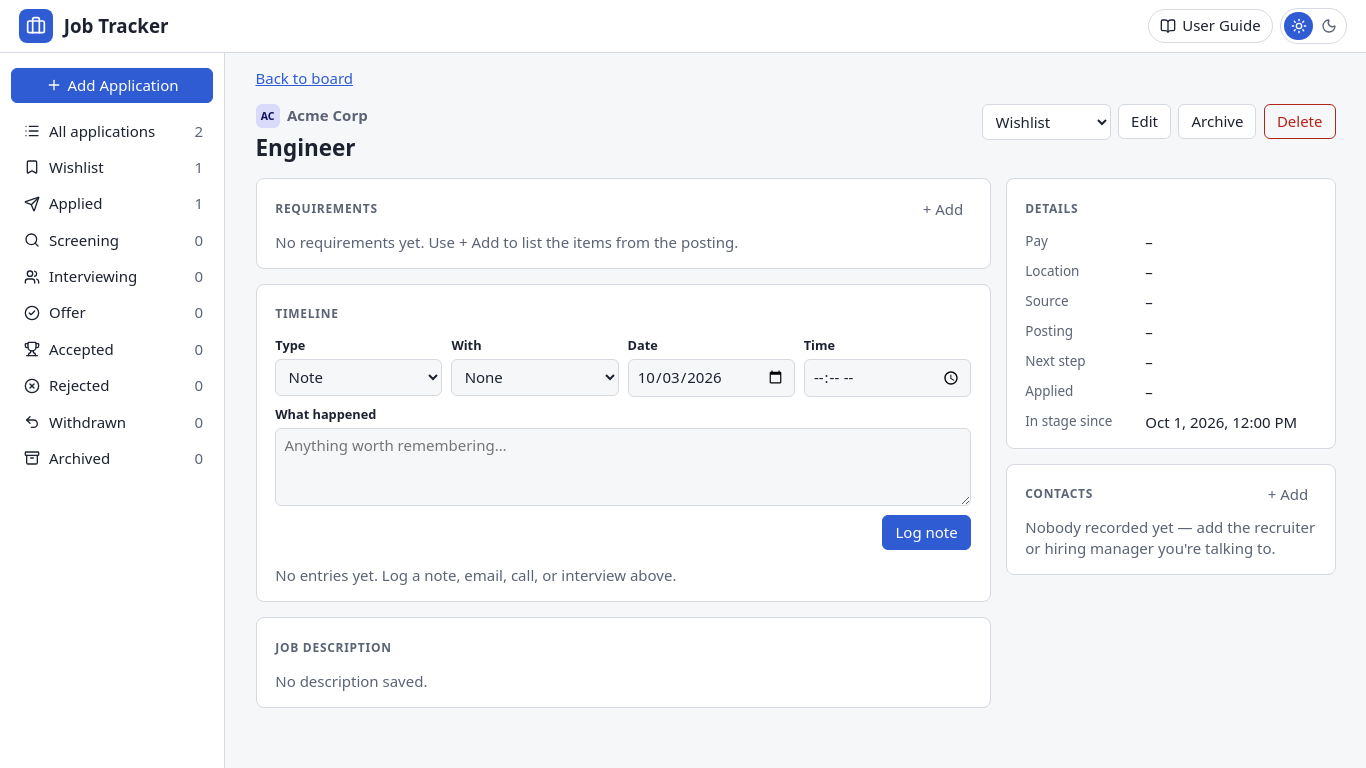
Test case: the sidebar's counts stay live (spec 014, AC-3) › follow the stage menu on an application's page, and go back if the change can't be saved
The image size is (1366, 768).
Select "Applied" in the dropdown named "Stage" at (1046, 122), box [982, 104, 1111, 140]
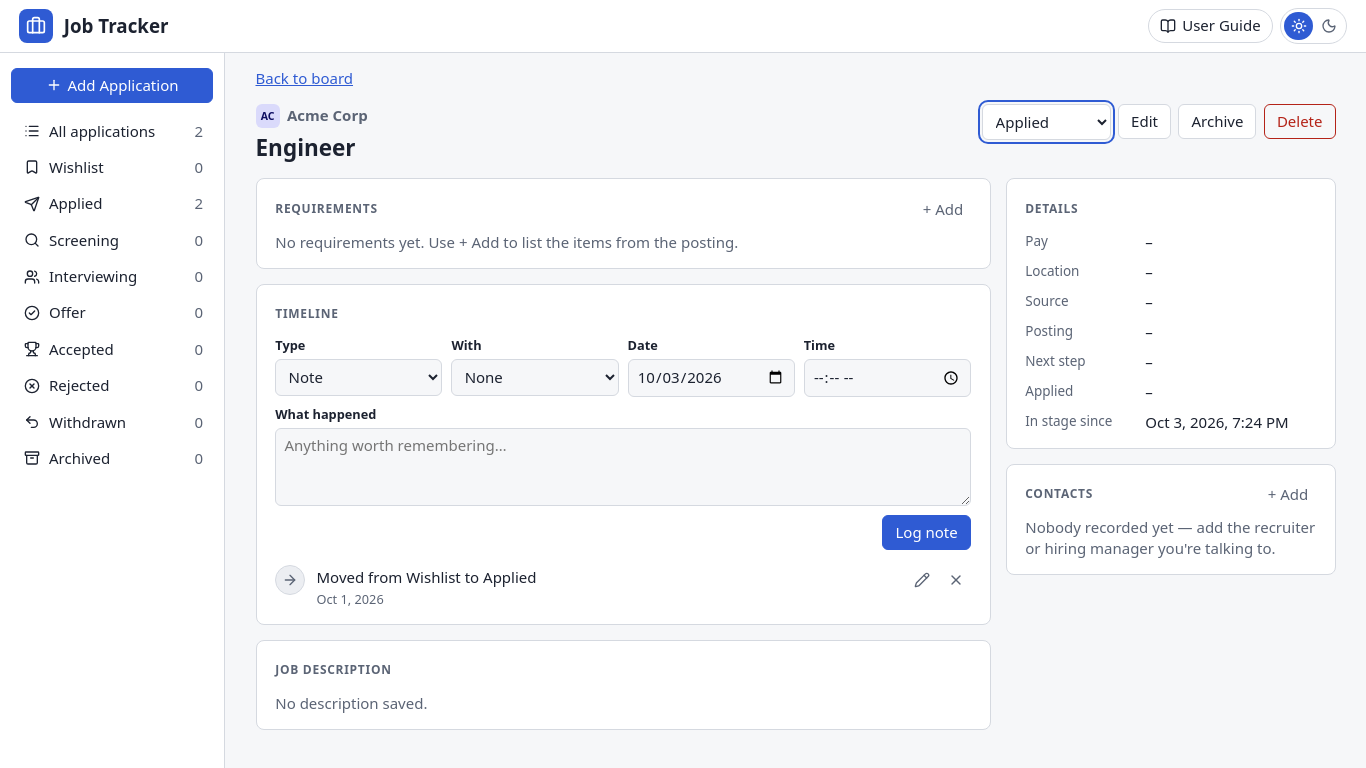
Select "Rejected" in the dropdown named "Stage" at (1046, 122), box [982, 104, 1111, 140]
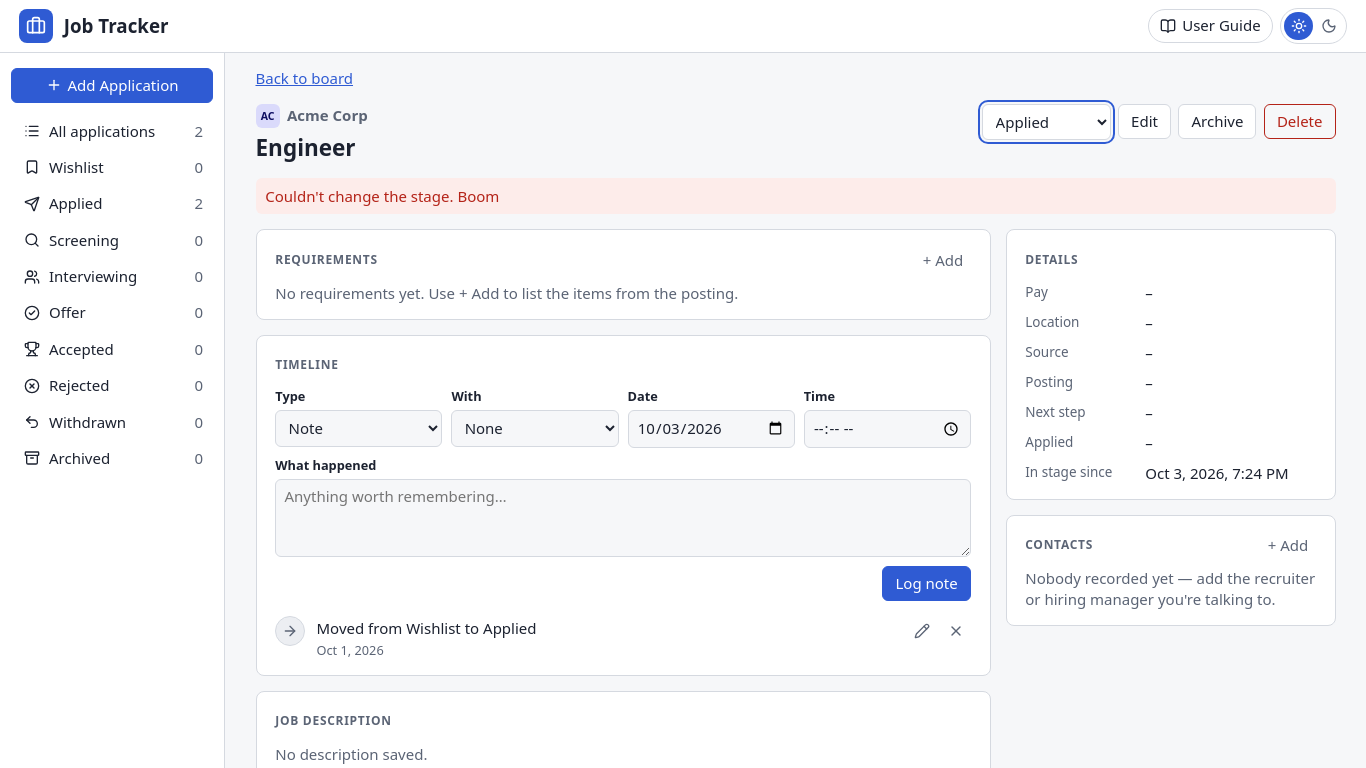
Expected: the message "Couldn't change the stage. Boom" is shown, [256, 178, 1336, 214]
